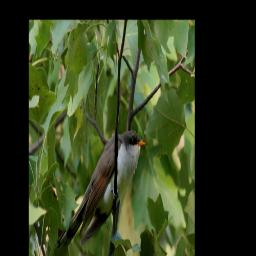Cuckoo: (54, 125, 145, 250)
